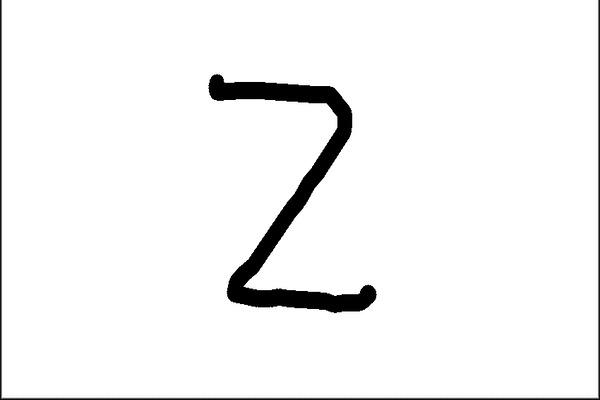Z: (204, 63, 387, 320)
